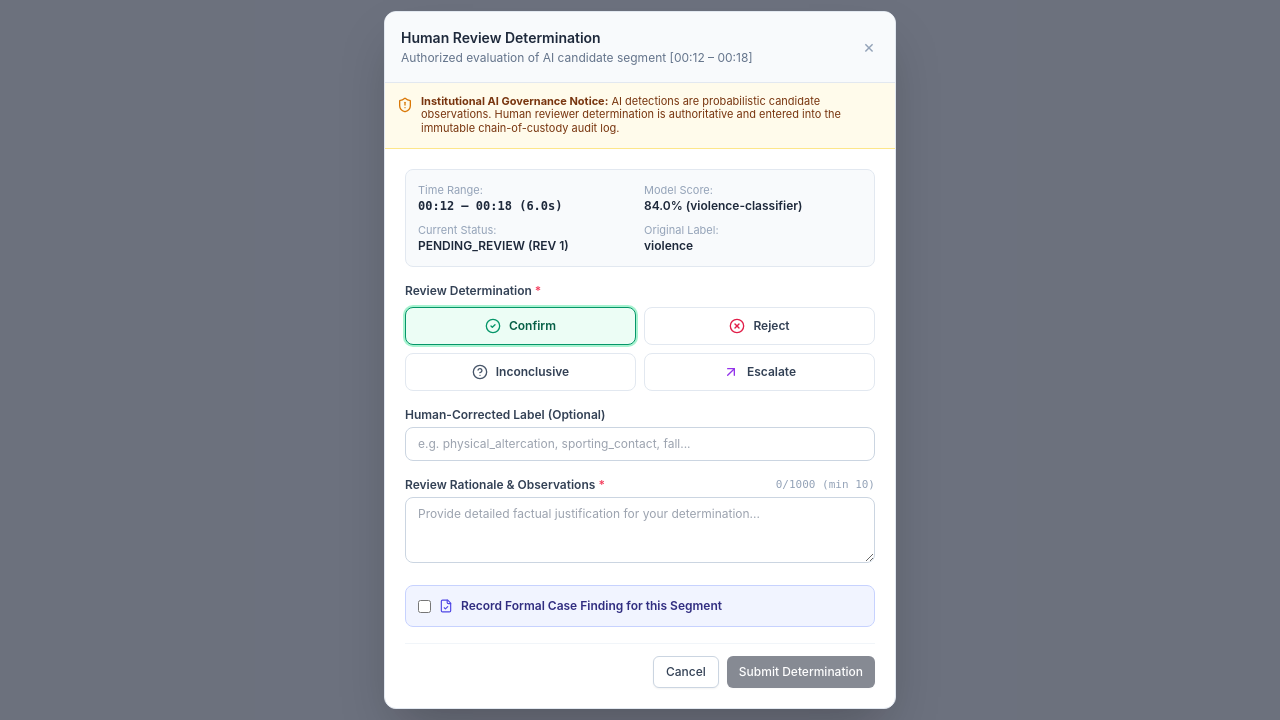
Scenario: AI Review Workflow Components › AISegmentReviewModal › validates minimum 10-character rationale on submission
The image size is (1280, 720).
Check: the button "Submit Determination" is disabled, box top-left (727, 656), bottom-right (875, 688)
Replace the text in the text box with placeholder "Provide detailed factual justification" with "Too short" at (640, 530), box top-left (405, 497), bottom-right (875, 563)
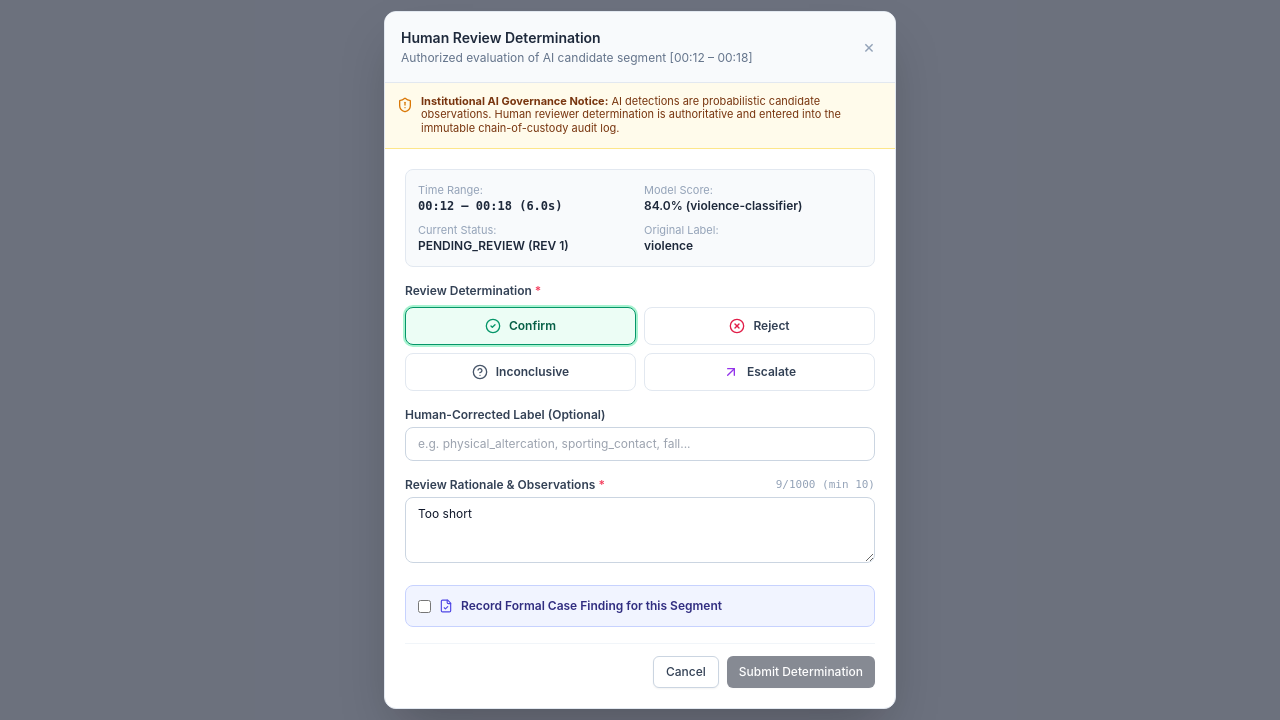
Check: the button "Submit Determination" is disabled, box top-left (727, 656), bottom-right (875, 688)
Replace the text in the text box with placeholder "Provide detailed factual justification" with "Detailed factual justification statement here." at (640, 530), box top-left (405, 497), bottom-right (875, 563)
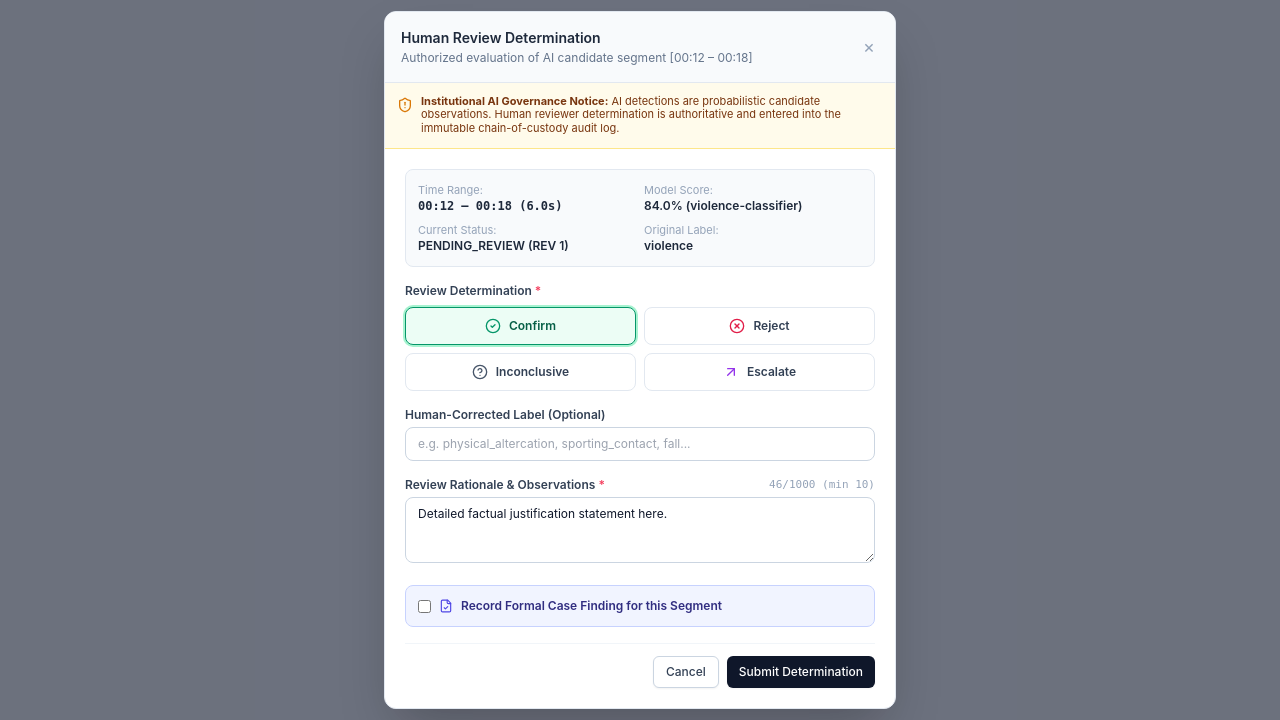
Check: the button "Submit Determination" is enabled, box top-left (727, 656), bottom-right (875, 688)
